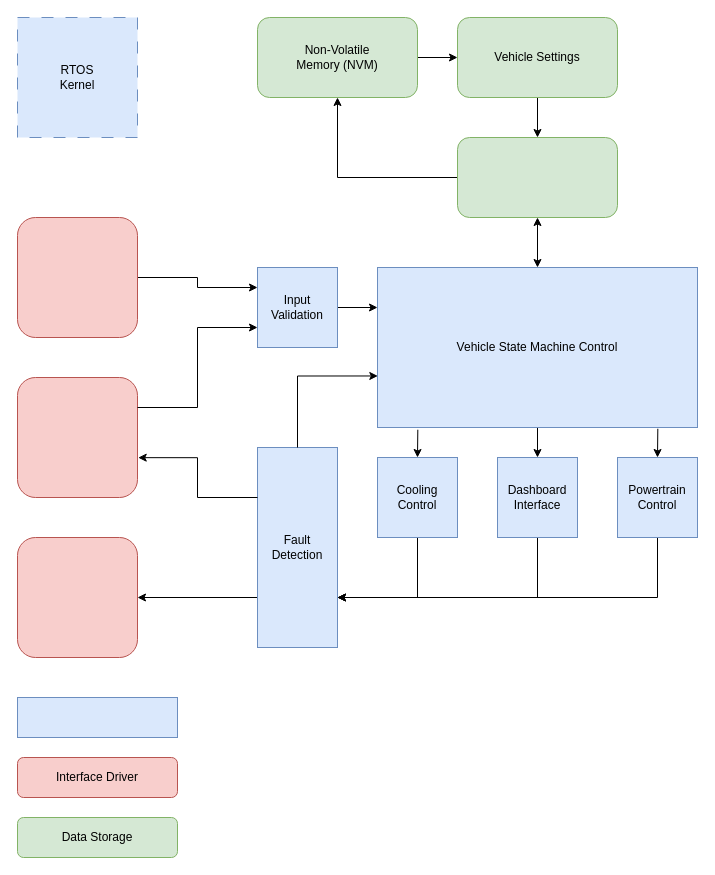
This 715x875 diagram has some shape labels left out. The shapes that lost their labels are listed below. From the top down, each one's centre as x and y in pixels, then its label:
[537,177]: Vehicle Real-time State Data
[77,277]: System Inputs (sensors, input buttons, etc)
[77,437]: CAN Bus Driver
[77,597]: System Outputs
[97,717]: RTOS Task
